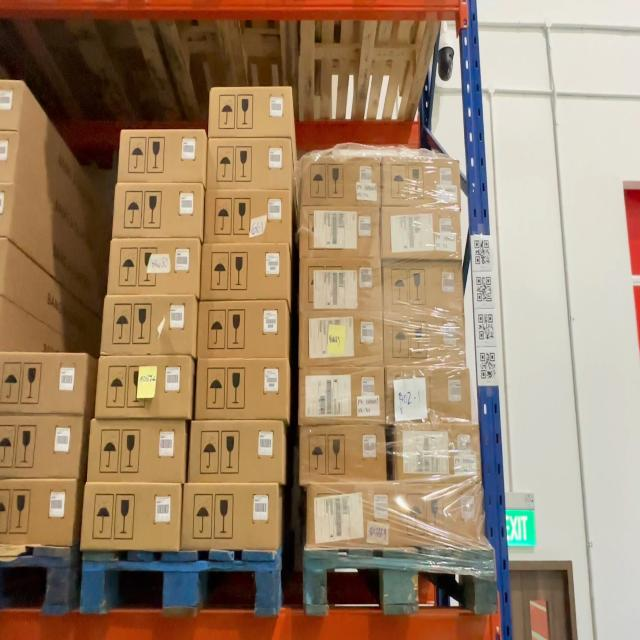box: (304, 483, 484, 546), (85, 484, 183, 549), (183, 485, 280, 549), (90, 421, 186, 481), (190, 422, 284, 481), (98, 359, 192, 418), (0, 351, 88, 414), (196, 359, 288, 418), (1, 415, 83, 479), (102, 297, 195, 353), (300, 424, 387, 483), (110, 240, 200, 294), (1, 479, 76, 543), (203, 246, 290, 301), (114, 182, 202, 236), (389, 368, 474, 423), (396, 423, 478, 480), (121, 130, 207, 184), (200, 303, 288, 355), (207, 87, 294, 138), (301, 258, 381, 313), (300, 368, 384, 420), (301, 314, 384, 366), (300, 157, 382, 208), (208, 193, 291, 243), (386, 260, 464, 313), (300, 206, 380, 257), (209, 139, 292, 188), (383, 208, 462, 258), (387, 317, 467, 364), (384, 160, 462, 208), (1, 80, 22, 130), (0, 132, 17, 182)
